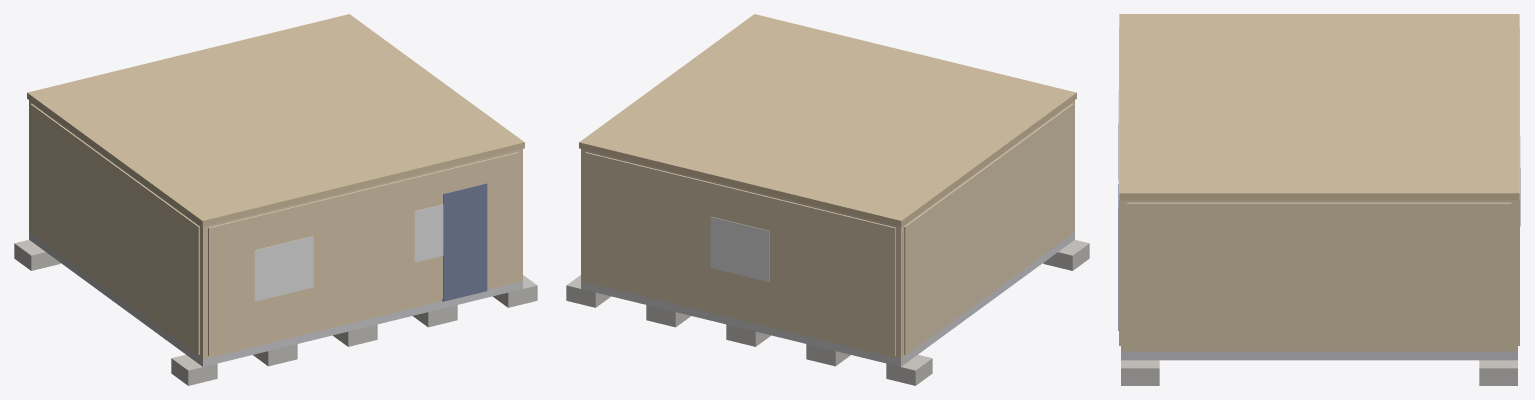
File: Studio-20-Base-LightBrownSand-LOD2.glb
3 views of the same model, side by side, from view 1: azimuth 30°, elevation 25°; view 2: azimuth 150°, elevation 25°; view 3: azimuth 270°, elevation 25° (orthographic). The views are drawn at different scales.
Visible parts, largest first — view 1: RoofMain, ExteriorPanelsStandard, EntryDoor, WindowsStandard, FoundationBlocks, ExteriorShell, BaseFrame; view 2: ExteriorPanelsStandard, RoofMain, FoundationBlocks, BaseFrame, ExteriorShell, WindowsStandard; view 3: RoofMain, ExteriorPanelsStandard, ExteriorShell, BaseFrame, FoundationBlocks.
Part boxes in pixels (box(x1,y1,x2,y2)): RoofMain: box(27, 14, 524, 226); ExteriorPanelsStandard: box(30, 103, 518, 355); EntryDoor: box(442, 183, 487, 301); WindowsStandard: box(254, 204, 443, 301); FoundationBlocks: box(14, 240, 537, 385); ExteriorShell: box(29, 100, 522, 359); BaseFrame: box(29, 232, 522, 366); ExteriorPanelsStandard: box(585, 103, 1073, 355); RoofMain: box(579, 14, 1076, 226); FoundationBlocks: box(566, 240, 1089, 385); BaseFrame: box(581, 232, 1074, 366); ExteriorShell: box(581, 100, 1074, 359); WindowsStandard: box(710, 216, 769, 281); RoofMain: box(1119, 14, 1519, 200); ExteriorPanelsStandard: box(1119, 27, 1519, 349); ExteriorShell: box(1121, 200, 1517, 351); BaseFrame: box(1121, 351, 1517, 360); FoundationBlocks: box(1121, 360, 1517, 385).
Size of the model in its own units: 7.14 by 3.17 by 6.24.
